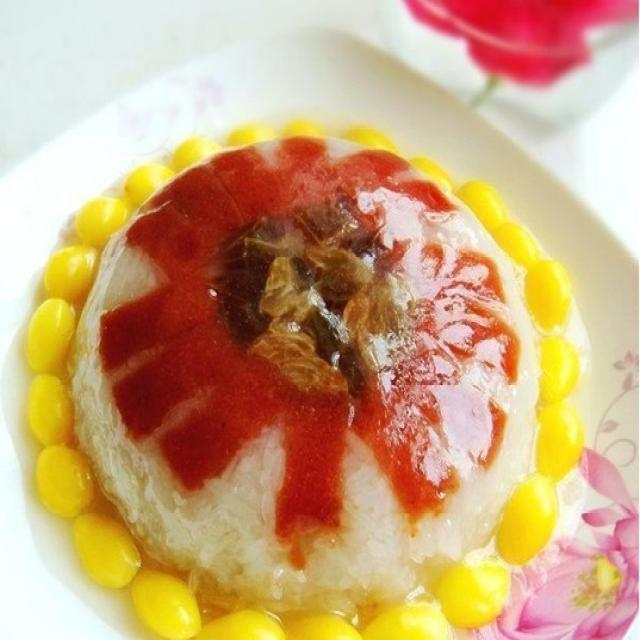米饭主食: (27, 120, 590, 634)
